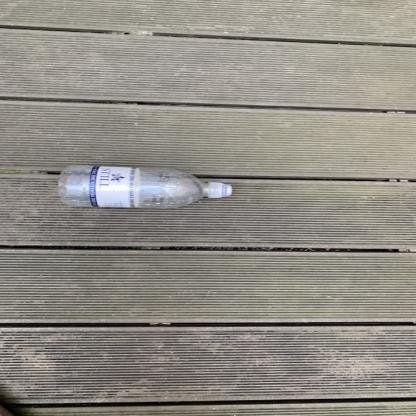trash: (58, 165, 234, 210)
